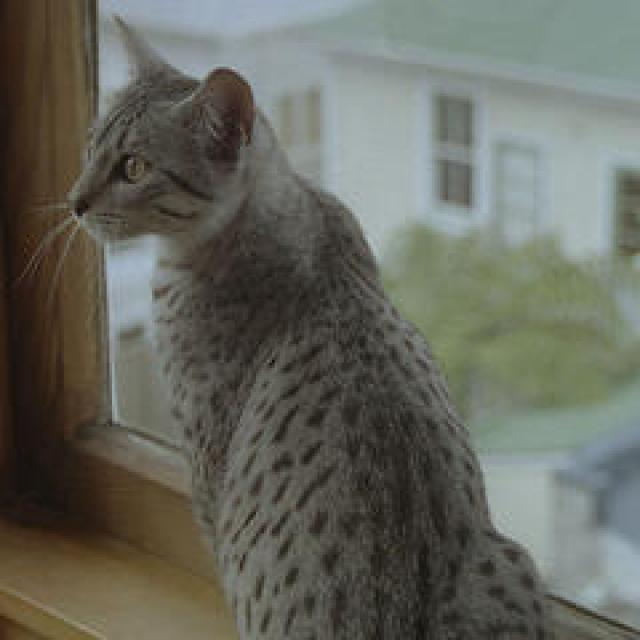Egyptian_Mau: (64, 13, 261, 243)
